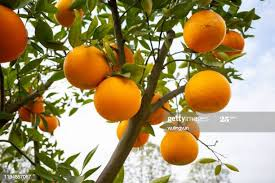orange: (94, 74, 143, 122), (62, 45, 112, 90), (182, 70, 232, 115), (182, 10, 226, 56), (160, 130, 199, 165), (218, 28, 247, 60)
